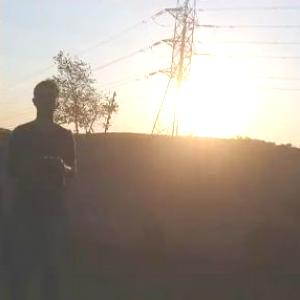follow: (3, 73, 82, 299)
